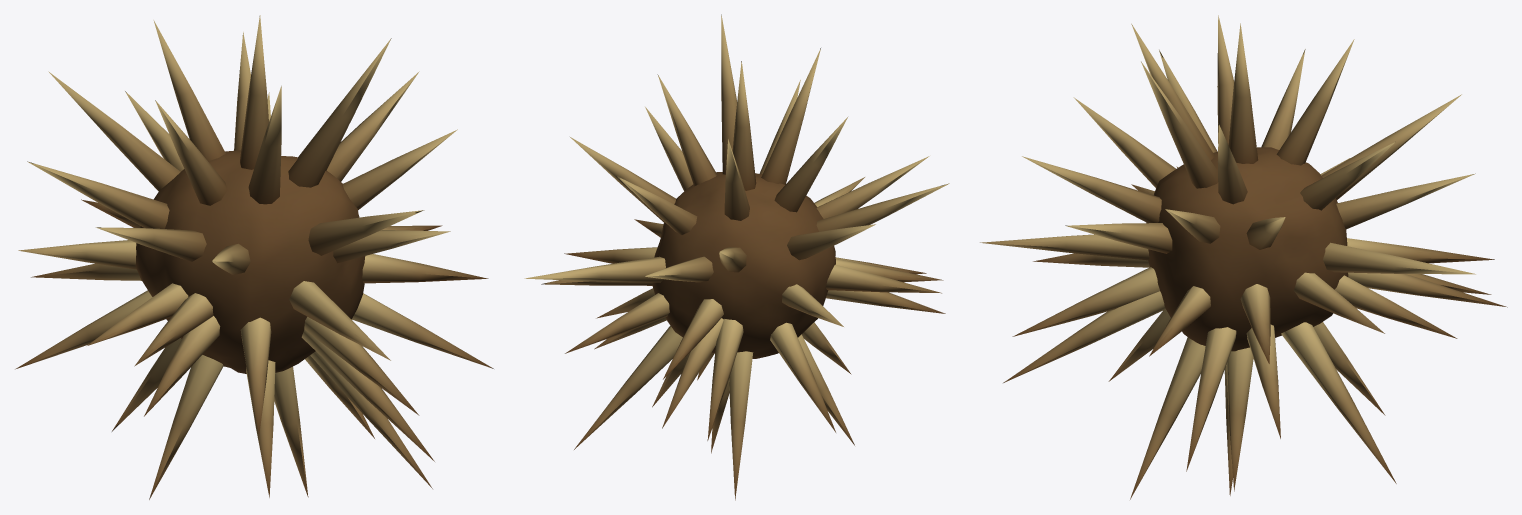
The model's file is thorn.fbx.
3 views of the same model, side by side, from view 1: azimuth 30°, elevation 25°; view 2: azimuth 150°, elevation 25°; view 3: azimuth 270°, elevation 25° (orthographic). The views are drawn at different scales.
Visible parts, largest first — view 1: thorn; view 2: thorn; view 3: thorn.
Part boxes in pixels (x1,y1,x2,y2): thorn: (15, 15, 493, 499); thorn: (524, 14, 949, 500); thorn: (980, 15, 1507, 499).
Bounding box in the file's own units: 0.0672 × 0.0761 × 0.08.
1 material, 1 textured.
